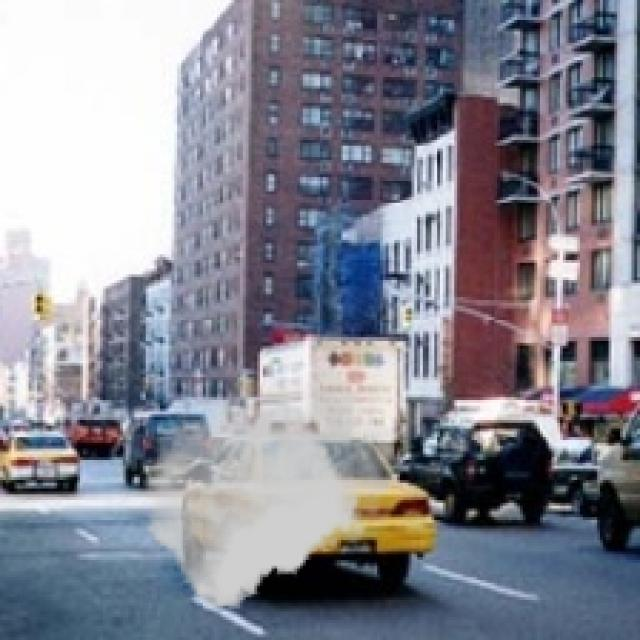smoke: (143, 372, 394, 608)
